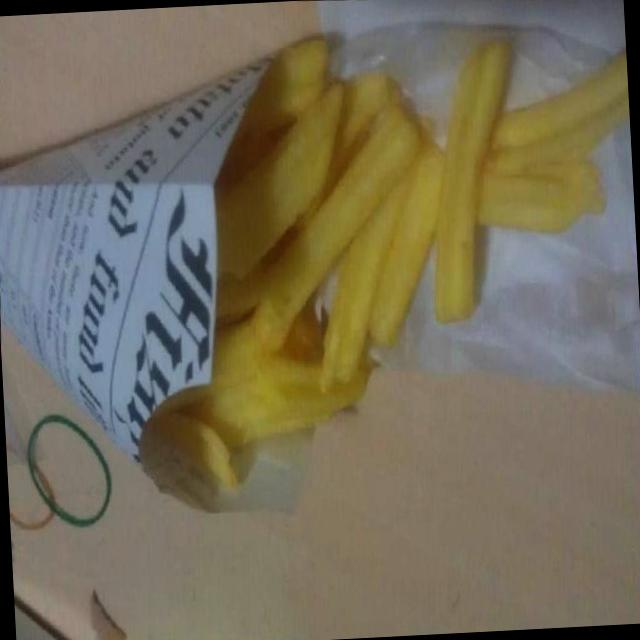French Fries: (195, 56, 640, 573)
